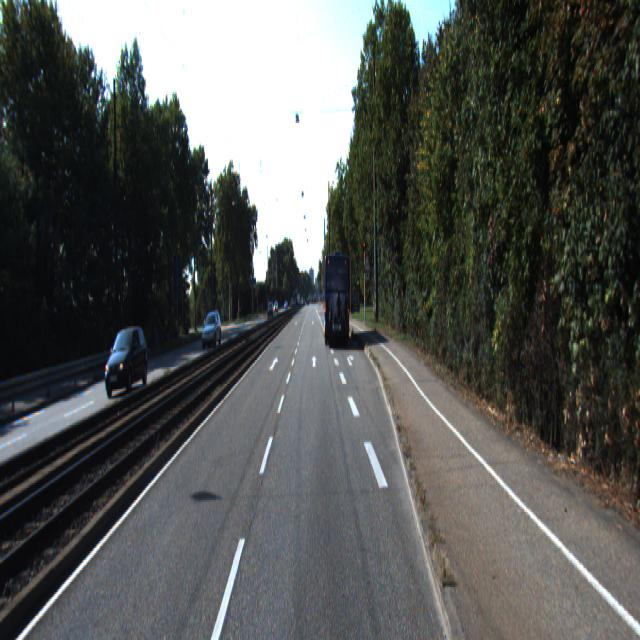Car: (104, 328, 150, 399), (324, 253, 351, 349), (200, 312, 222, 352)
